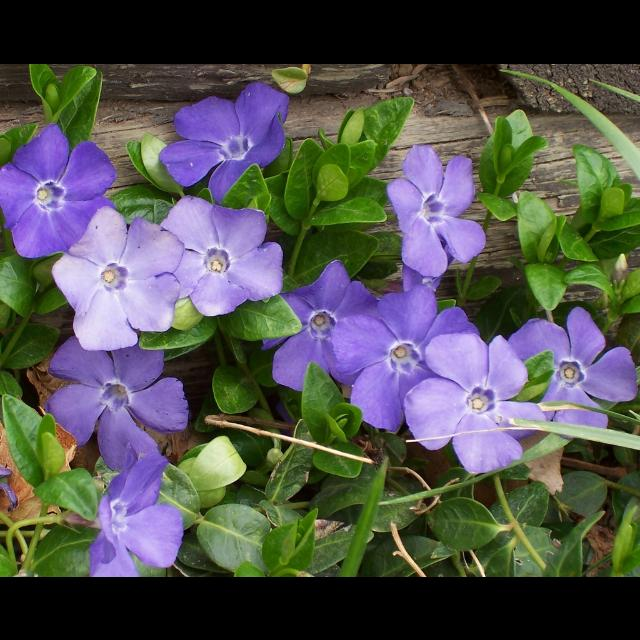Flower: (330, 282, 480, 432), (400, 334, 544, 468), (54, 208, 184, 350), (506, 309, 640, 436), (260, 260, 378, 394), (159, 190, 283, 316), (160, 82, 286, 204), (40, 344, 184, 450), (0, 123, 116, 254), (386, 141, 484, 275), (89, 447, 177, 575)
